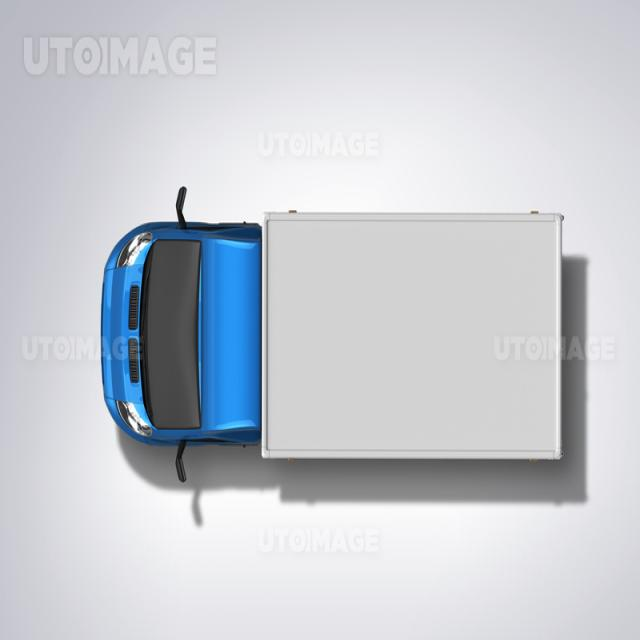truck: (103, 211, 562, 459)
